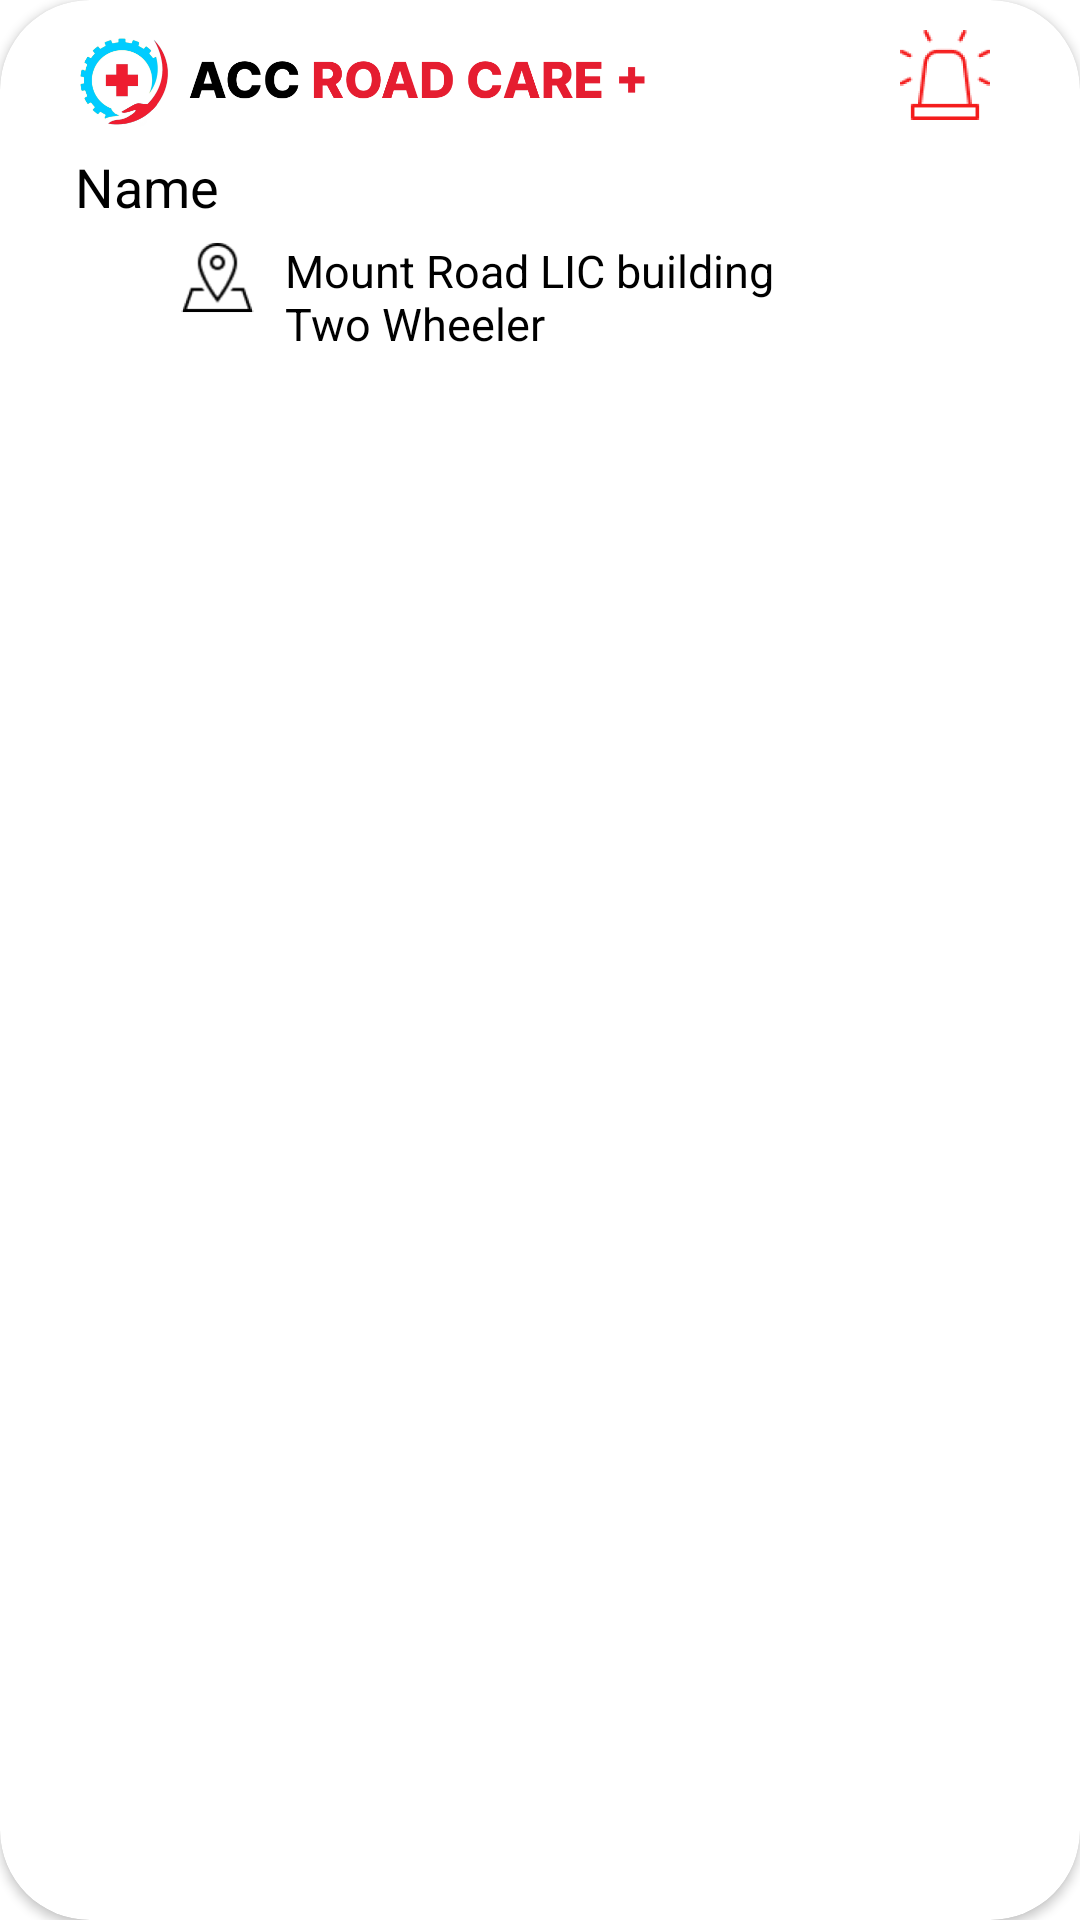

Point at icon controls on the screen. Image size 1080px×1920px, points as [x,y].
emergencyicon: [945,75]
mapicon: [217,277]
